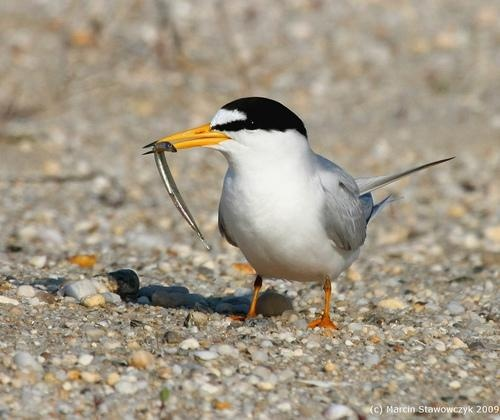bird: (135, 93, 461, 340)
